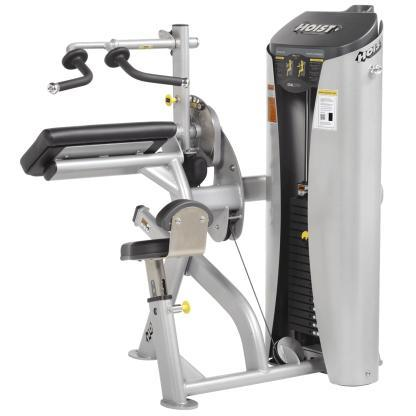arm curl machine: (20, 5, 389, 411)
